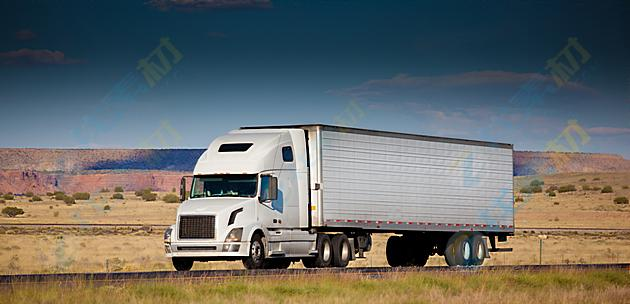truck: (157, 118, 522, 283)
